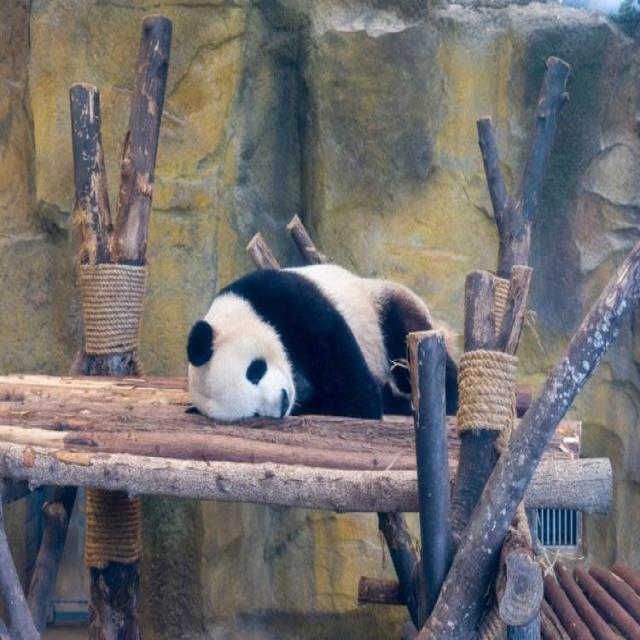panda: (182, 261, 460, 453)
